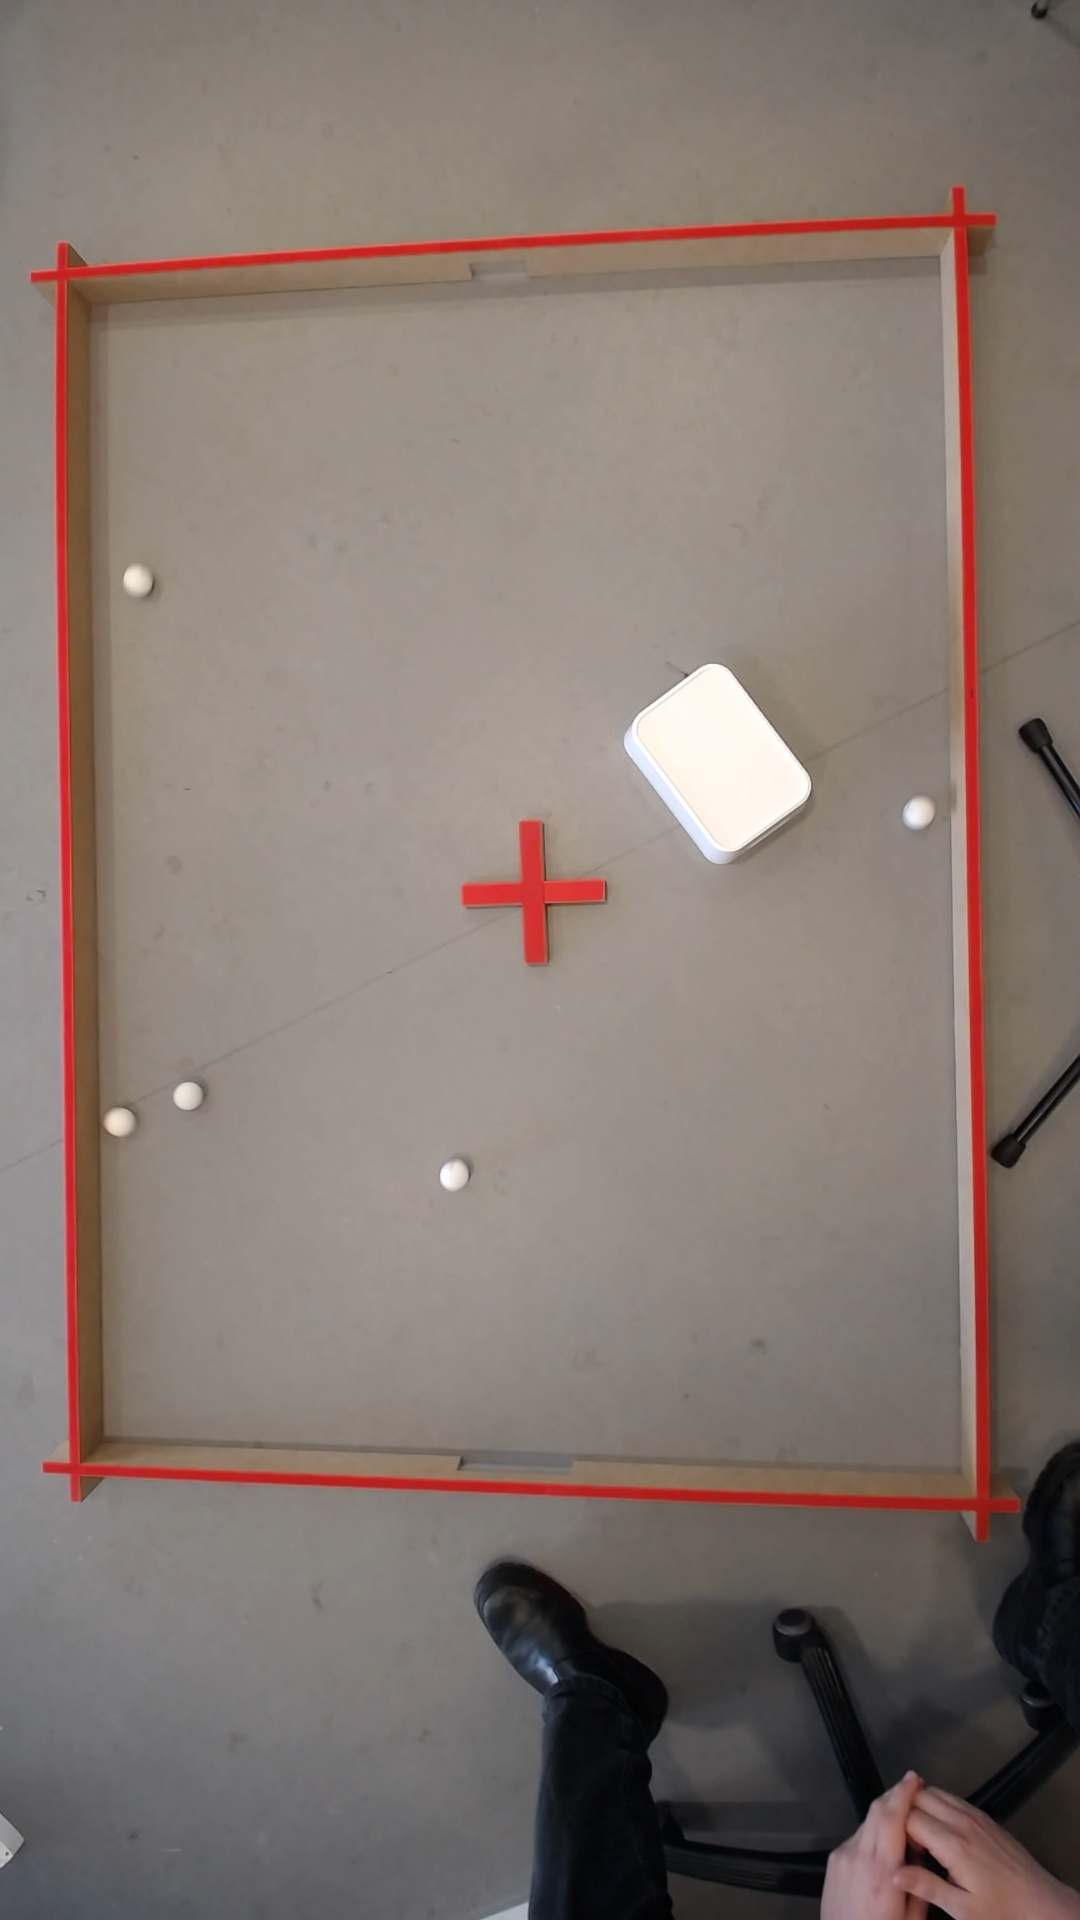balls: (611, 653, 819, 869), (899, 794, 934, 831), (434, 1158, 468, 1192), (119, 563, 149, 595), (169, 1079, 198, 1110)
car: (102, 1106, 132, 1137)
